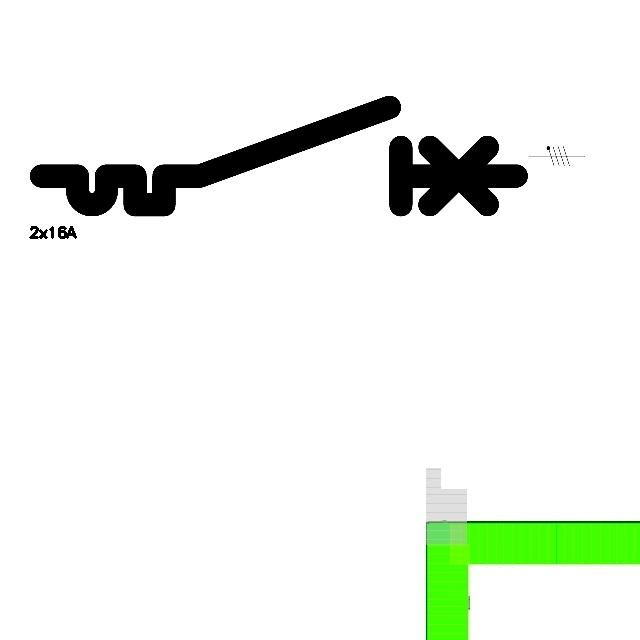interruptor_termomagnetico: (29, 95, 528, 217)
